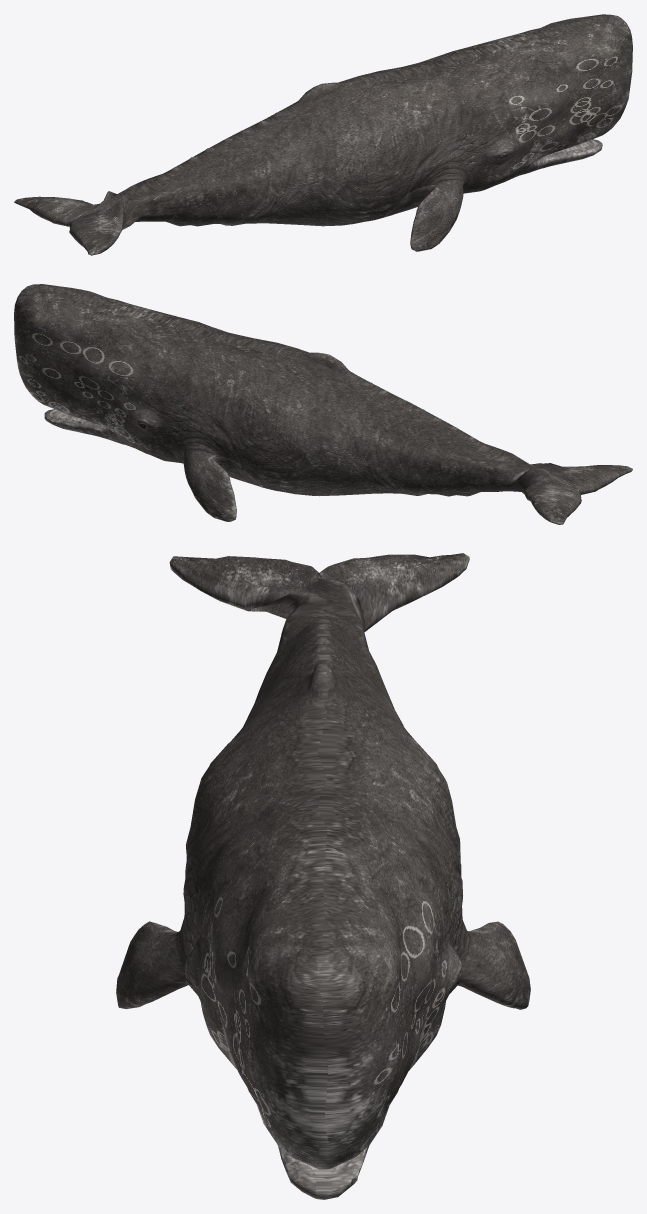
The model's file is sperm.glb.
The picture shows the model from 3 angles, top to bottom: view 1: azimuth 30°, elevation 25°; view 2: azimuth 150°, elevation 25°; view 3: azimuth 270°, elevation 25°; orthographic projection. The views are drawn at different scales.
Visible parts, largest first — view 1: fish; view 2: fish; view 3: fish.
Boxes of the visible parts, x1,y1,x2,y2 form: fish: (14,14,632,255); fish: (14,284,632,524); fish: (116,553,530,1199).
Size of the model in its own units: 2 by 0.4671 by 0.619.
1 material, 1 textured.
